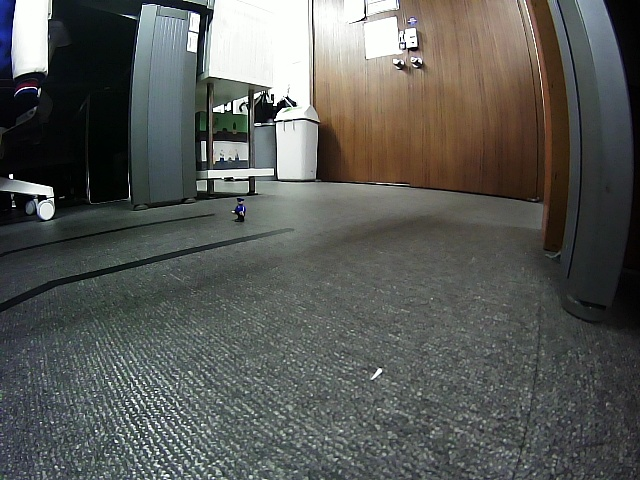person: (231, 195, 248, 223)
